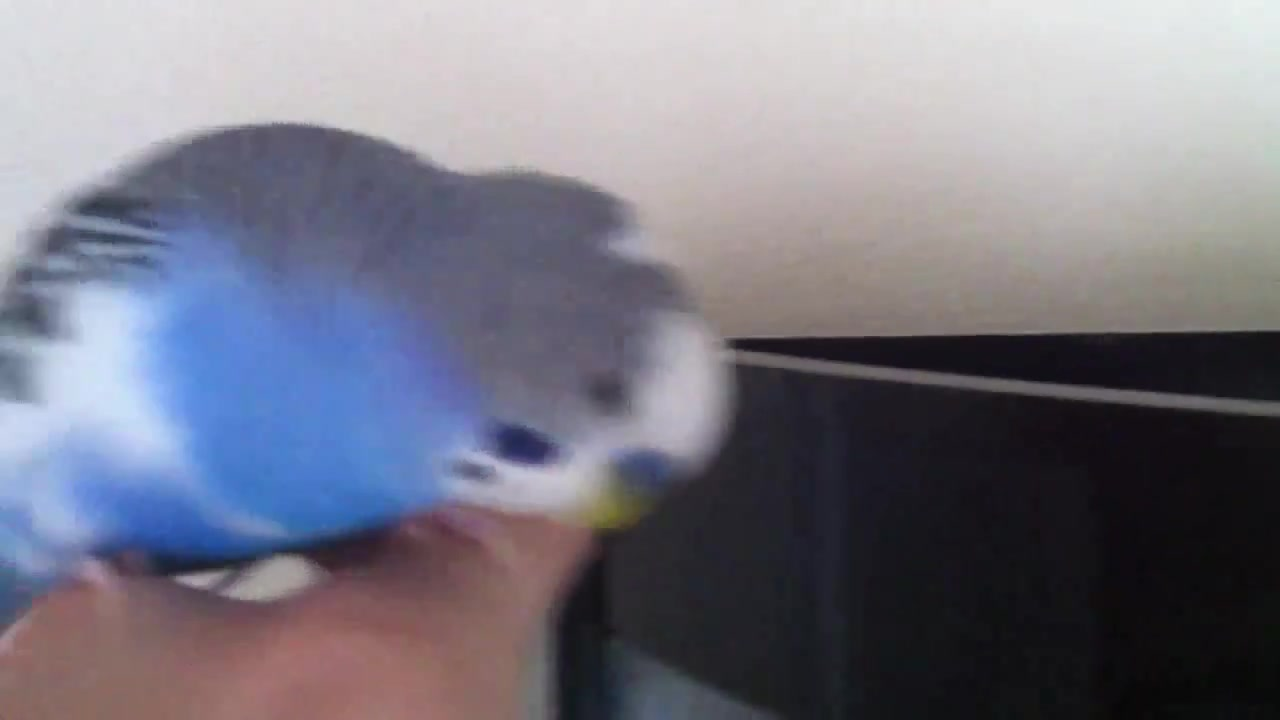bird: (1, 121, 738, 658)
